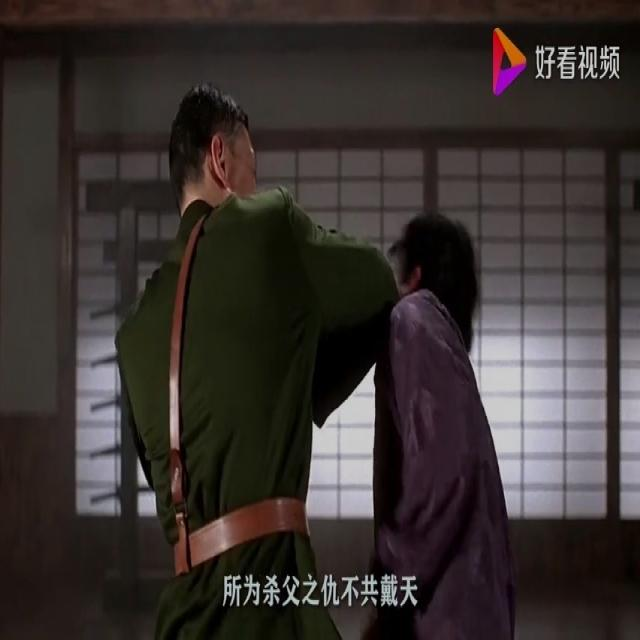fight: (95, 57, 543, 639)
